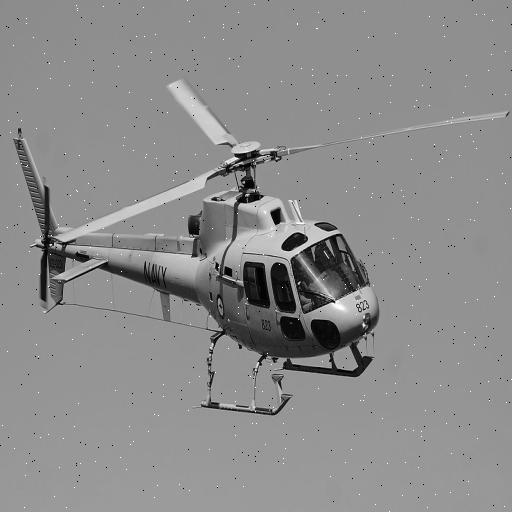helicopter: (10, 80, 509, 417)
